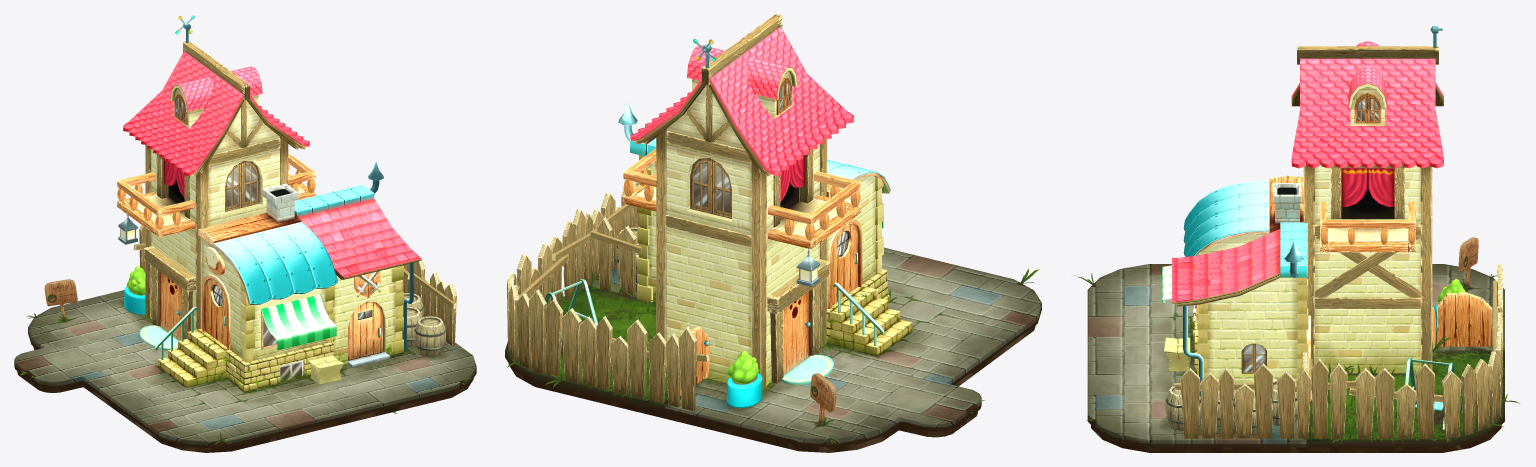
The model's file is neko-diorama.glb.
3 views of the same model, side by side, from view 1: azimuth 30°, elevation 25°; view 2: azimuth 150°, elevation 25°; view 3: azimuth 270°, elevation 25° (orthographic). The views are drawn at different scales.
Visible parts, largest first — view 1: object 1; view 2: object 1; view 3: object 1.
Boxes of the visible parts, x1=… form: object 1: x1=14, y1=22, x2=476, y2=452; object 1: x1=505, y1=14, x2=1041, y2=452; object 1: x1=1075, y1=26, x2=1519, y2=452.
Bounding box in the file's own units: 582 × 474 × 540.
5 materials, 5 textured.
